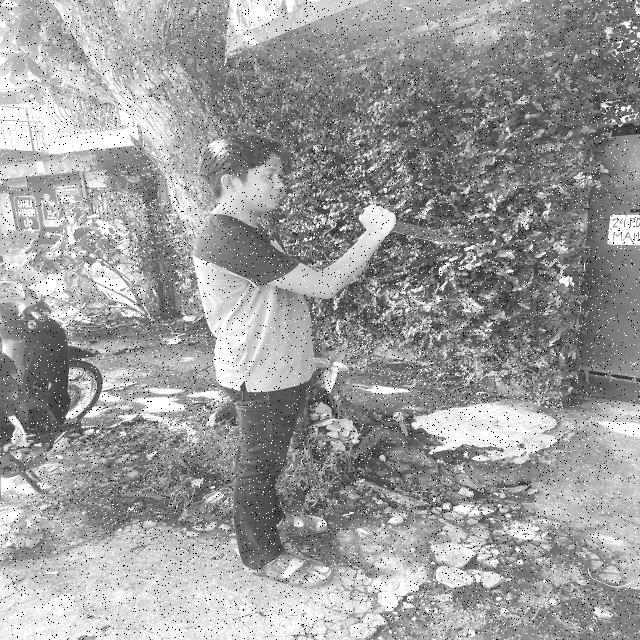knife: (356, 208, 464, 245)
non-violence: (192, 130, 467, 590)
